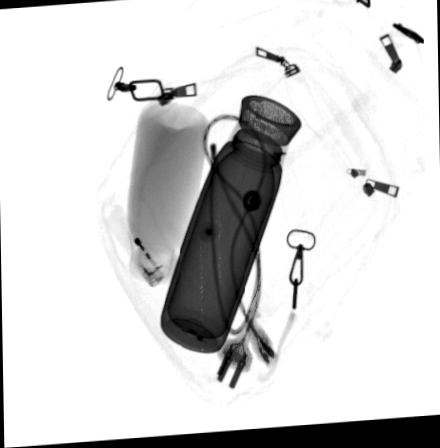Lighter: (105, 204, 169, 288)
